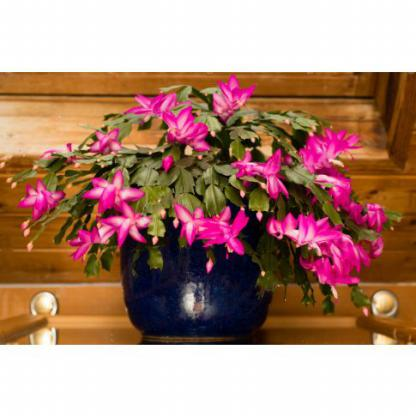Aglonema: (18, 19, 335, 286)
